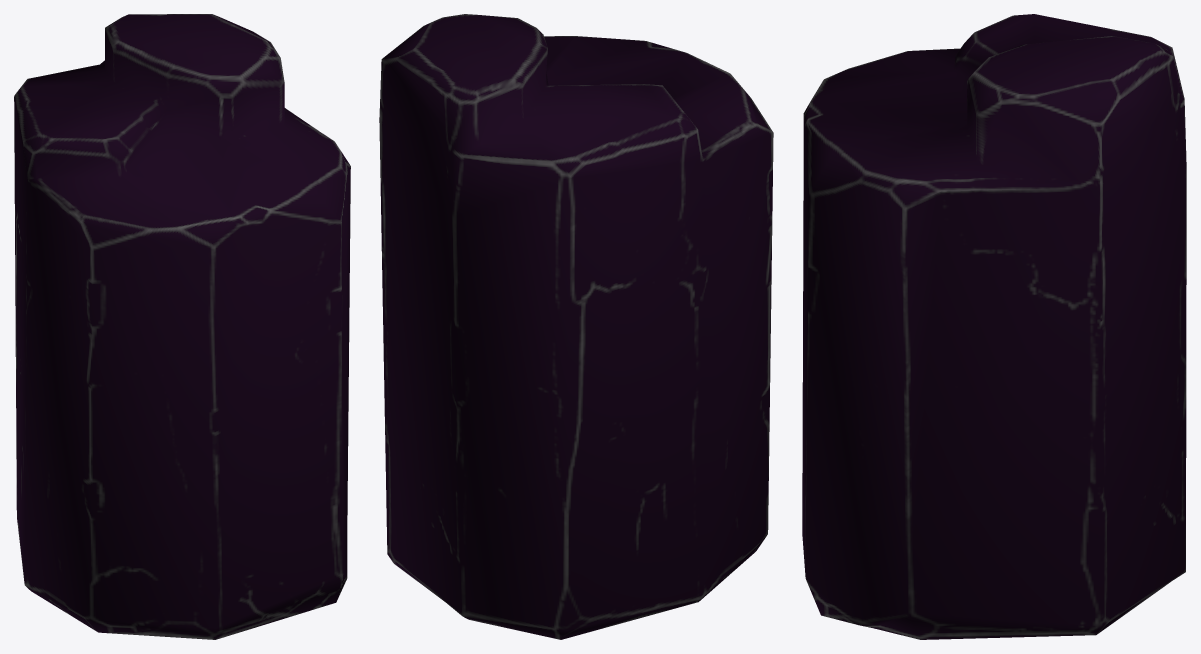
The model's file is SM_Scene_Mountain_Culture_Crystal01.fbx.
3 views of the same model, side by side, from view 1: azimuth 30°, elevation 25°; view 2: azimuth 150°, elevation 25°; view 3: azimuth 270°, elevation 25° (orthographic). The views are drawn at different scales.
Parts seen in each view (by area): view 1: SM_Scene_Mountain_Culture_Crystal01; view 2: SM_Scene_Mountain_Culture_Crystal01; view 3: SM_Scene_Mountain_Culture_Crystal01.
Part boxes in pixels (bbox=[...]): SM_Scene_Mountain_Culture_Crystal01: bbox=[14, 14, 350, 639]; SM_Scene_Mountain_Culture_Crystal01: bbox=[379, 14, 773, 639]; SM_Scene_Mountain_Culture_Crystal01: bbox=[802, 14, 1186, 639].
Size of the model in its own units: 342 by 591 by 380.
